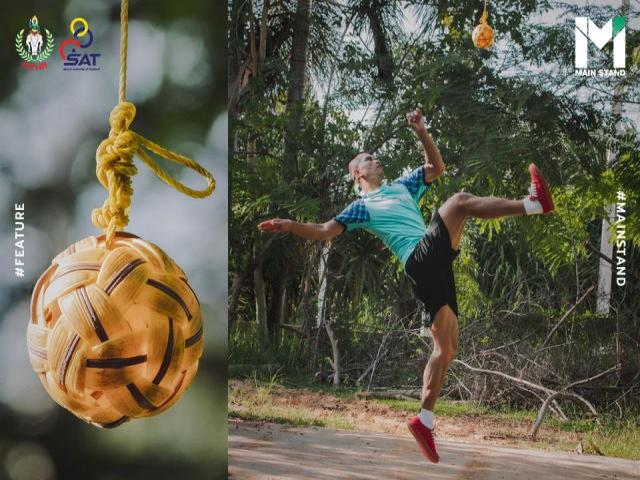round ball: (28, 232, 204, 428), (471, 22, 495, 48)
